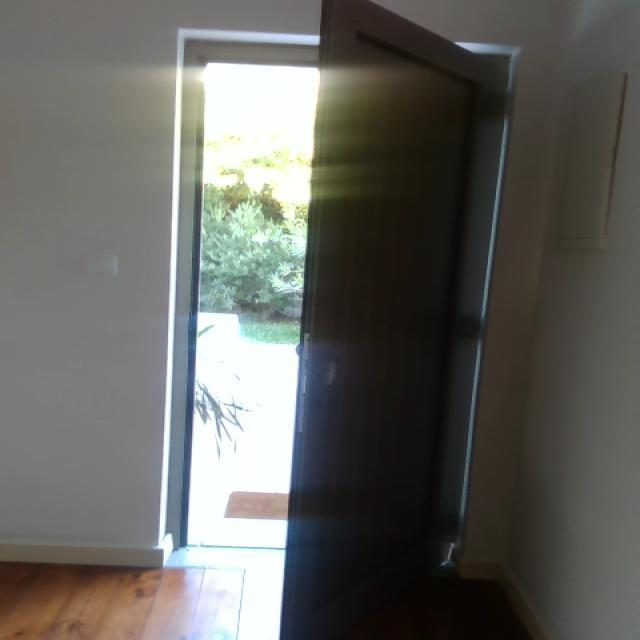door: (160, 0, 518, 640)
